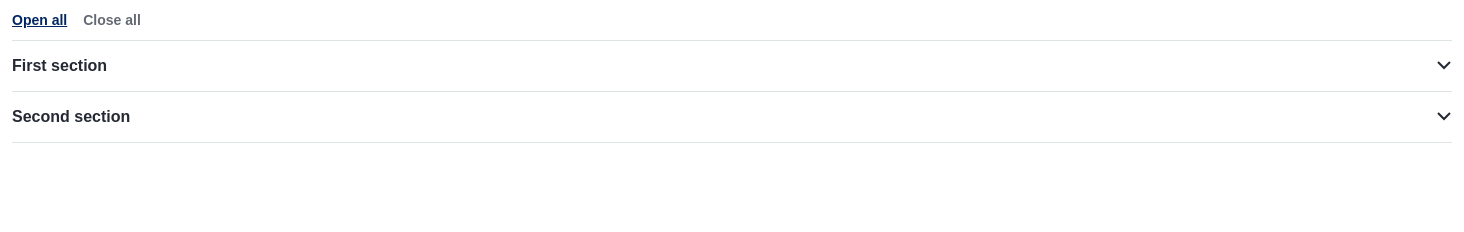
Test: Accordion › opens and closes individual items with aria-expanded and hidden panel state
Click the button "First section" at (60, 66), box top-left (12, 41), bottom-right (1452, 91)
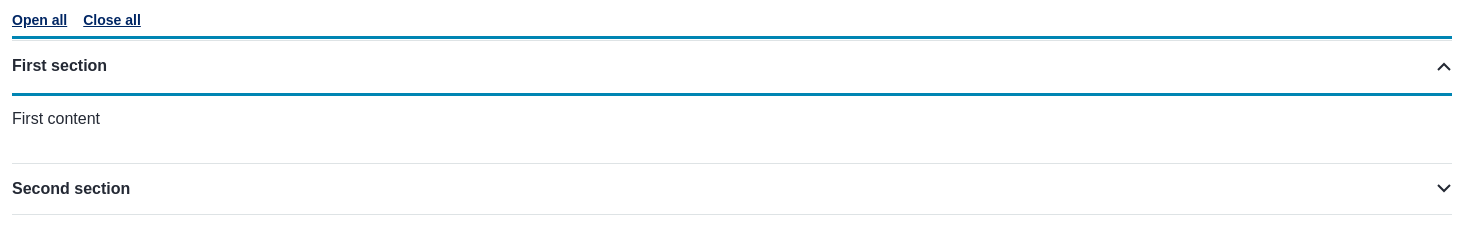
Expected: the button "First section" is expanded
Click the button "First section" at (60, 66), box top-left (12, 41), bottom-right (1452, 91)
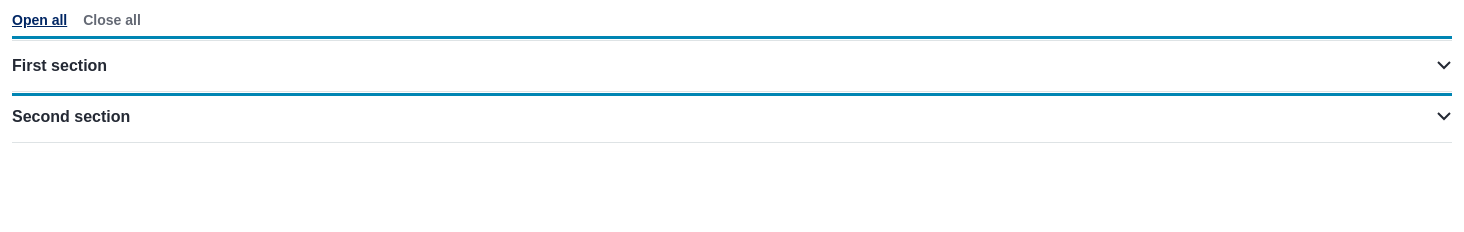
Expected: the button "First section" is collapsed, top-left (12, 41), bottom-right (1452, 91)
